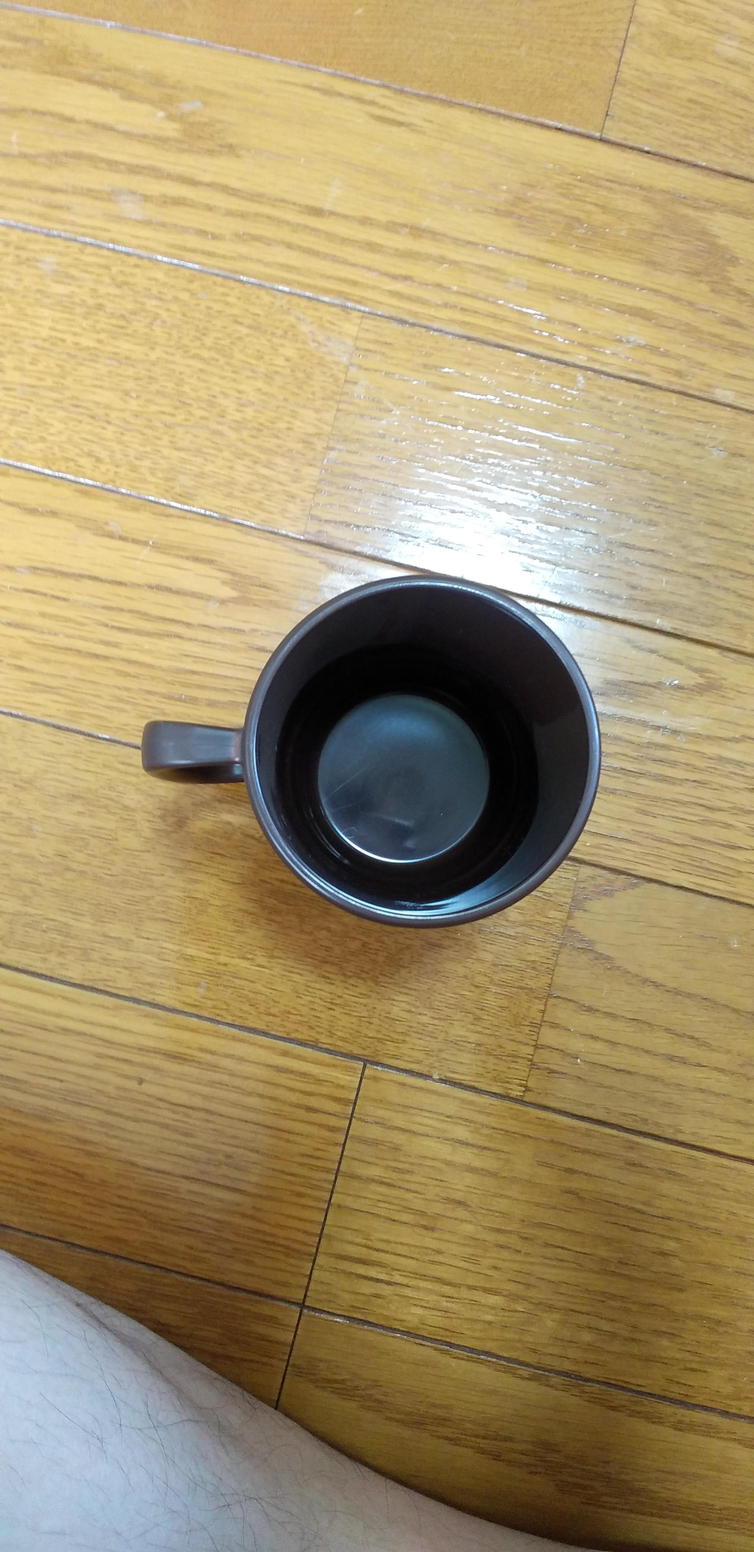mug-real100-3d100: (142, 576, 601, 928)
